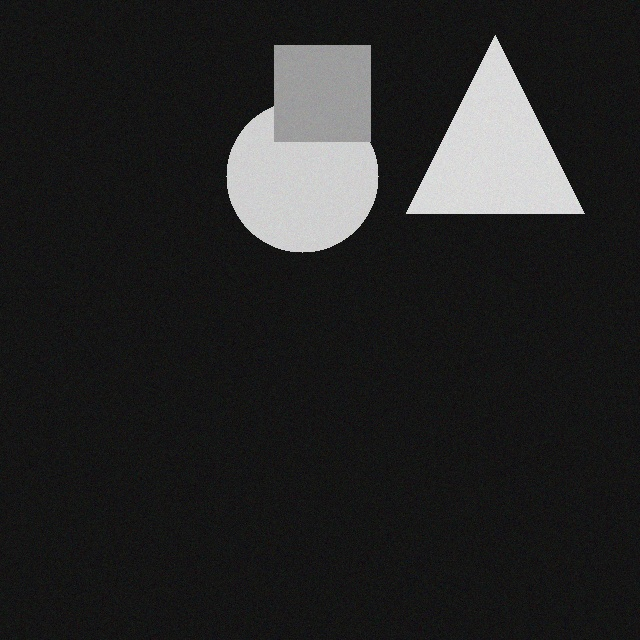circle: (223, 103, 375, 255)
square: (271, 48, 367, 144)
triangle: (403, 38, 581, 216)
